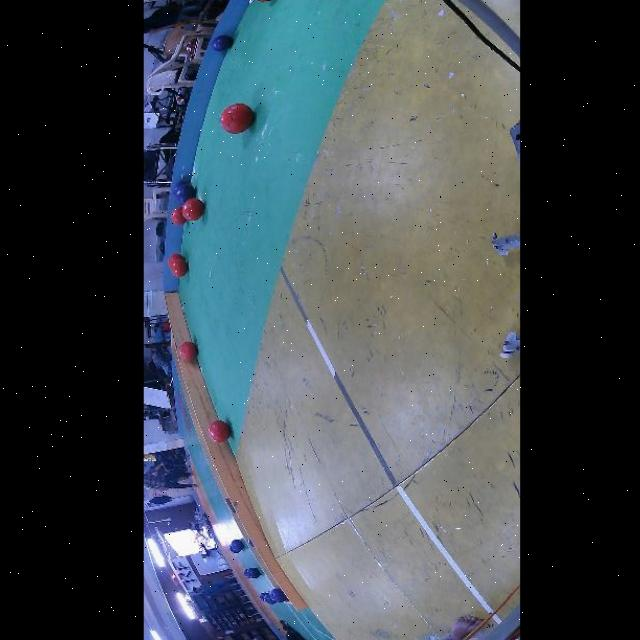P: (173, 184, 194, 205), (210, 35, 231, 52), (267, 588, 286, 602), (171, 181, 187, 195), (228, 539, 241, 552), (261, 593, 273, 603), (257, 592, 265, 601), (227, 545, 237, 552), (242, 569, 248, 579)
R: (218, 104, 253, 134), (206, 420, 229, 443), (180, 198, 203, 220), (168, 258, 186, 278), (178, 342, 197, 360), (168, 207, 185, 226), (165, 253, 182, 267)
